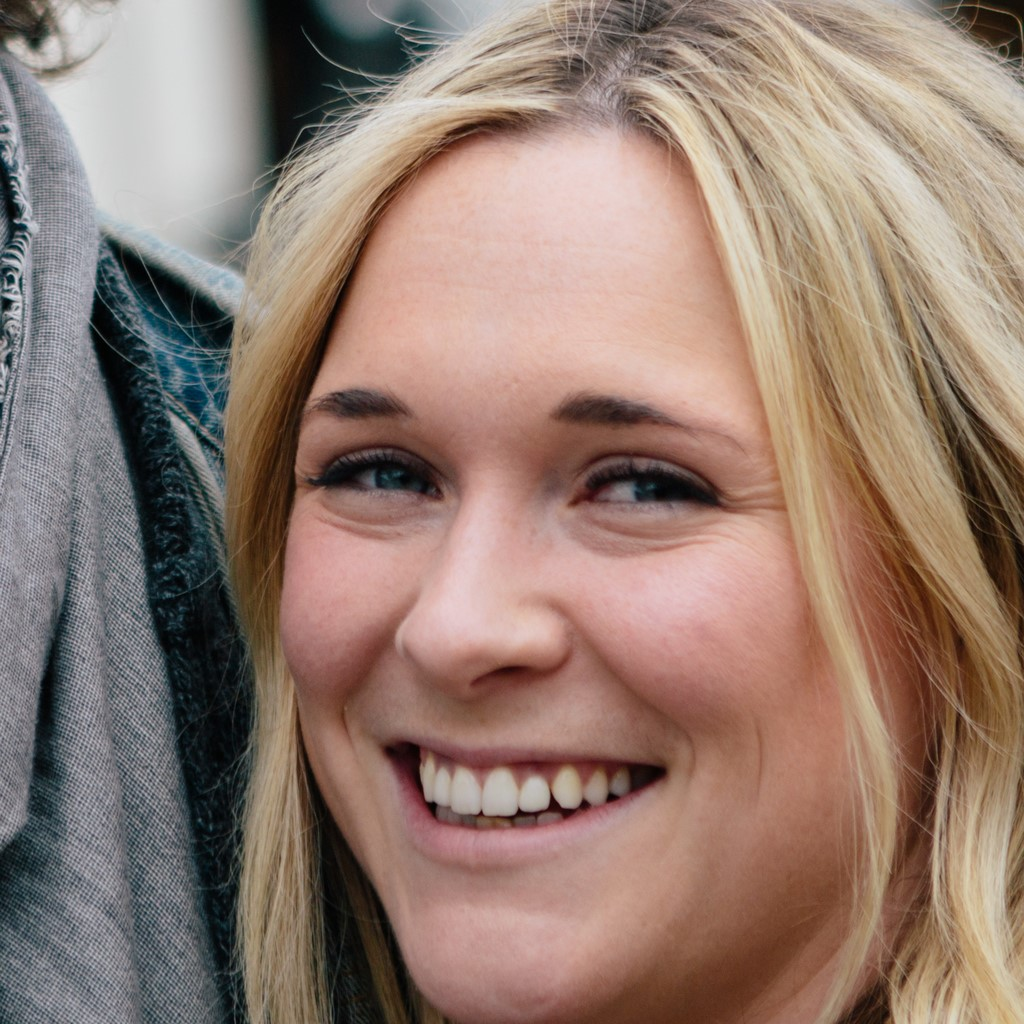sin_mascara: (243, 178, 928, 1003)
